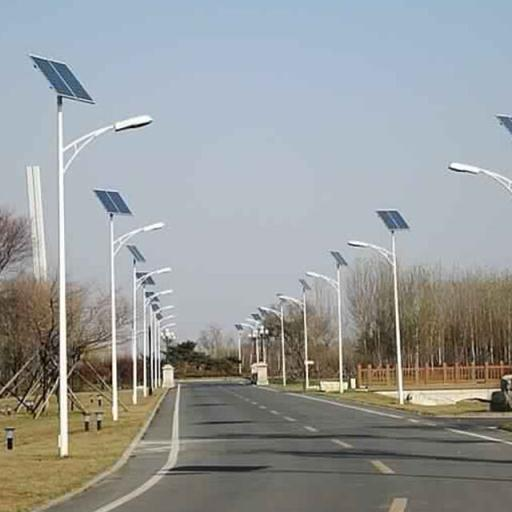Light-pole: (30, 58, 134, 487), (353, 195, 419, 403), (90, 179, 134, 425), (299, 252, 354, 380), (128, 254, 162, 392), (260, 300, 297, 384)
